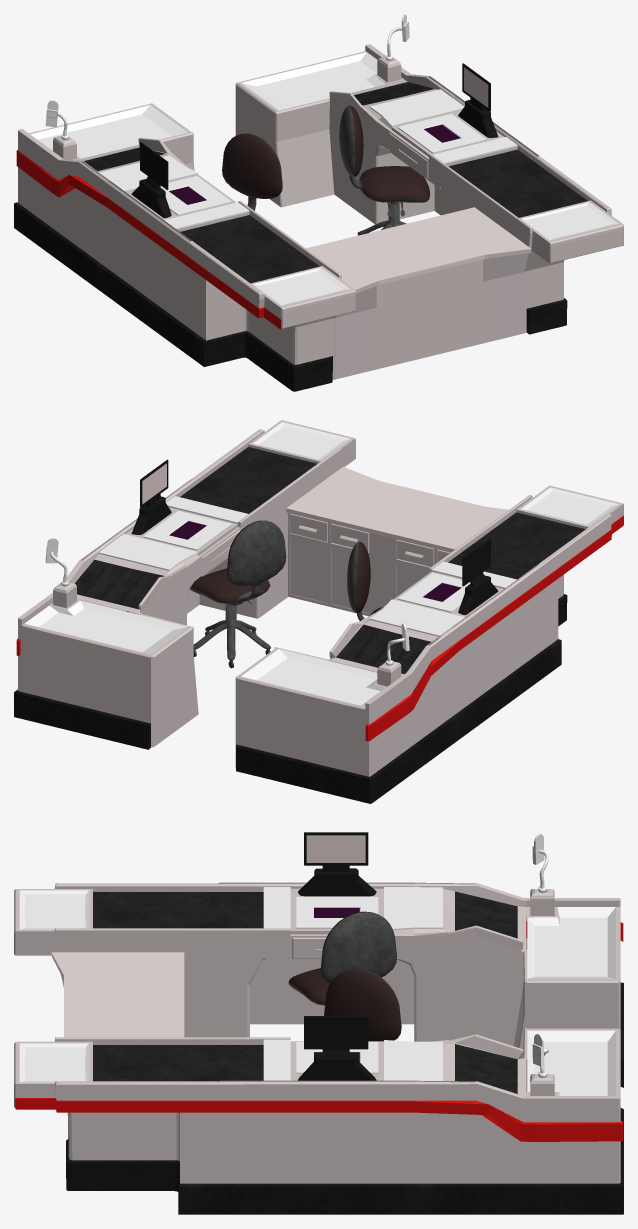
The model's file is checkout.fbx.
The picture shows the model from 3 angles, top to bottom: view 1: azimuth 30°, elevation 25°; view 2: azimuth 150°, elevation 25°; view 3: azimuth 270°, elevation 25°; orthographic projection. The views are drawn at different scales.
Visible parts, largest first — view 1: Double Checkout_0_3; view 2: Double Checkout_0_3; view 3: Double Checkout_0_3.
Part boxes in pixels (left/top/right/bottom): Double Checkout_0_3: left=14, top=14, right=623, bottom=391; Double Checkout_0_3: left=14, top=420, right=623, bottom=803; Double Checkout_0_3: left=14, top=832, right=623, bottom=1214.
Size of the model in its own units: 361 by 153 by 448.
